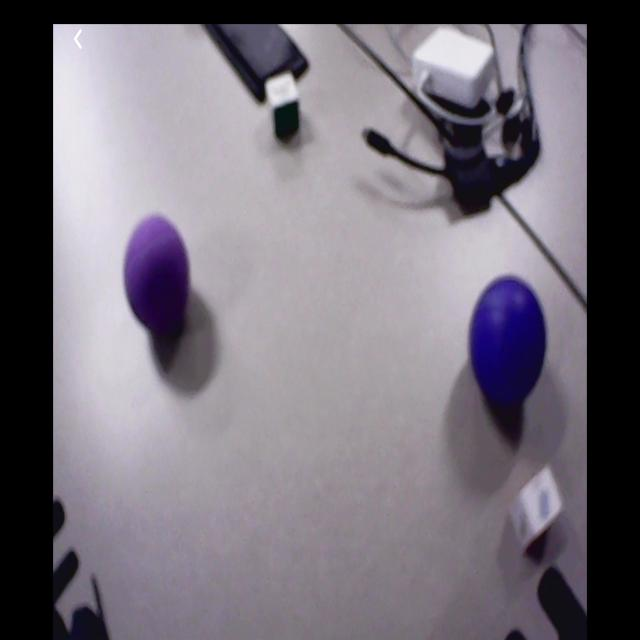ball: (471, 277, 548, 401), (124, 215, 190, 327)
